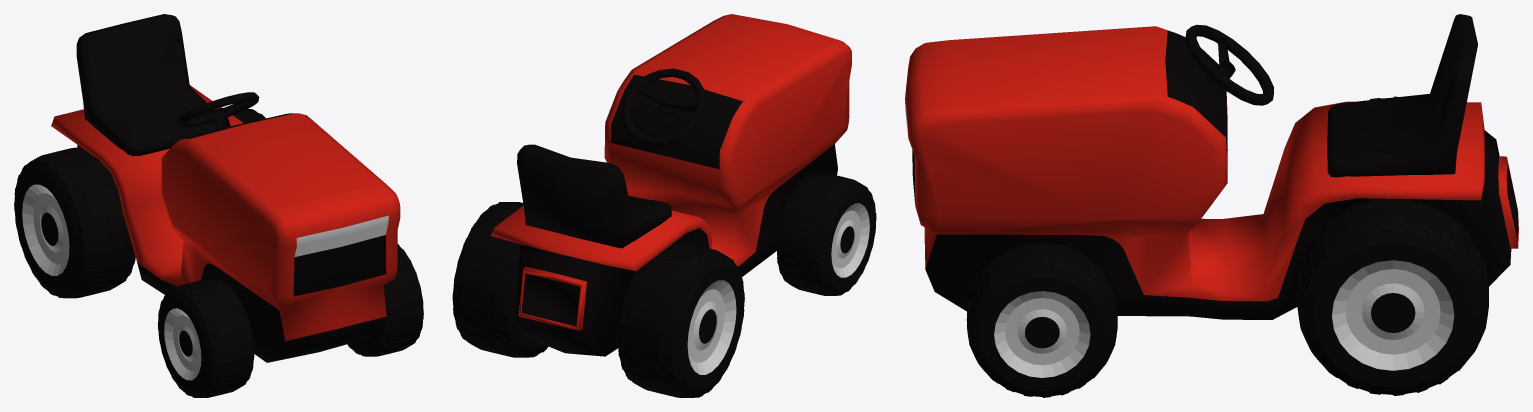
Rendered from Tractor.obj.
3 views of the same model, side by side, from view 1: azimuth 30°, elevation 25°; view 2: azimuth 150°, elevation 25°; view 3: azimuth 270°, elevation 25° (orthographic). The views are drawn at different scales.
Parts seen in each view (by area): view 1: Truck.006, Truck.002; view 2: Truck.006, Truck.002; view 3: Truck.006, Truck.002.
Part boxes in pixels (<box>): Truck.006: <box>51,14,400,362</box>; Truck.002: <box>14,109,423,397</box>; Truck.006: <box>490,14,851,356</box>; Truck.002: <box>452,173,876,397</box>; Truck.006: <box>905,14,1518,319</box>; Truck.002: <box>966,96,1488,397</box>.
Bounding box in the file's own units: 1.57 × 1.59 × 2.93.
